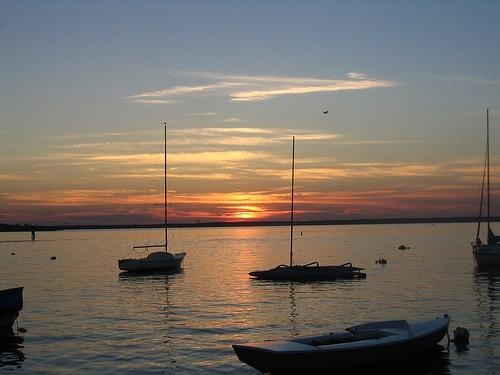boat: (250, 136, 367, 282), (231, 315, 450, 375), (118, 123, 187, 274), (470, 109, 500, 279)
